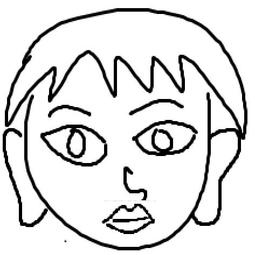cupid_mouth: (100, 203, 159, 235)
eye: (38, 123, 112, 169), (133, 118, 200, 159)
eyebrow: (128, 96, 187, 118), (47, 101, 93, 118)
large_ear: (0, 125, 50, 239), (197, 125, 247, 229)
nose: (119, 165, 155, 202)
